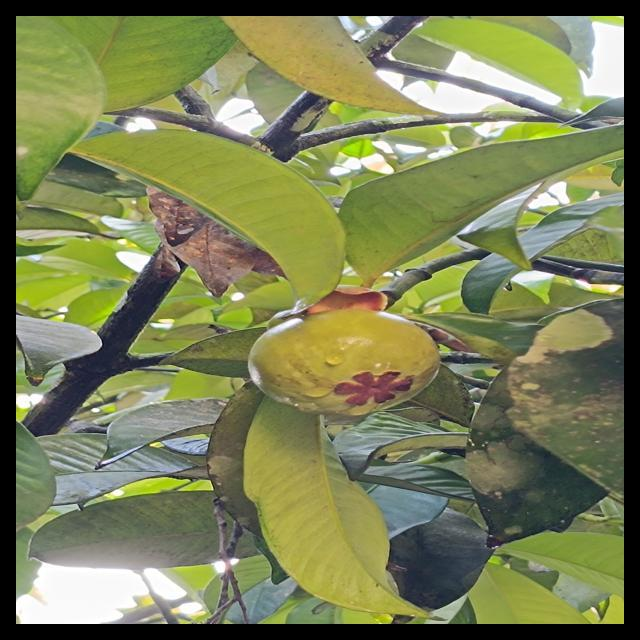mangosteen: (217, 250, 457, 462)
